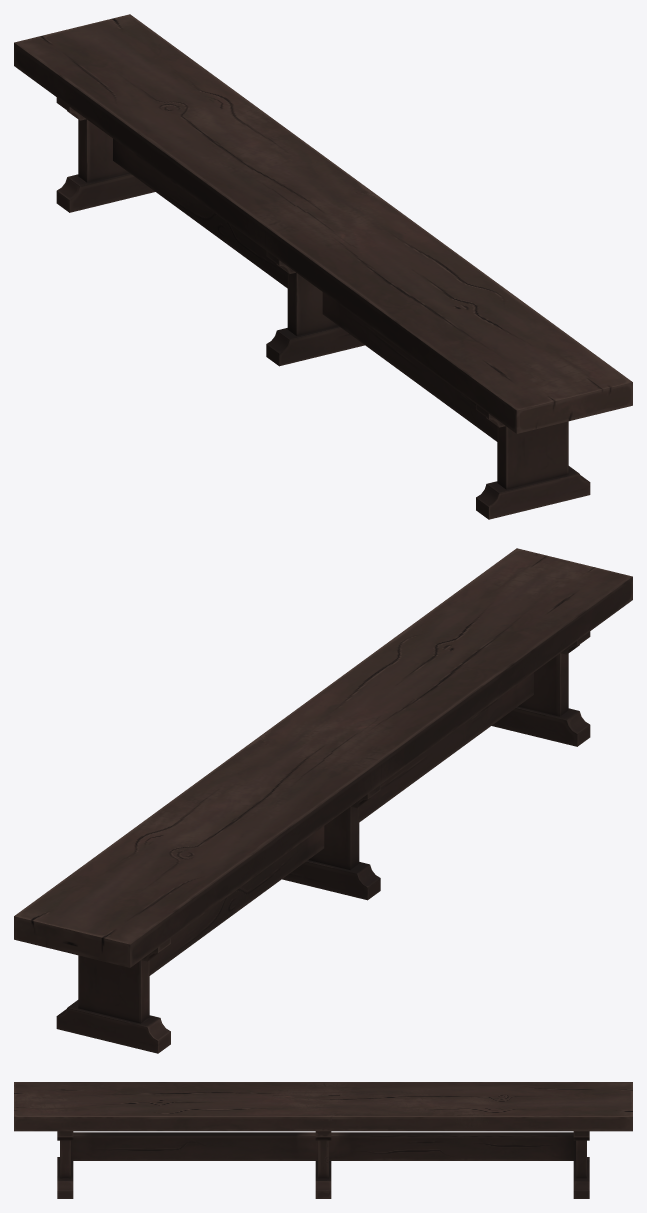
The model's file is Bench.fbx.
3 renders of one model, top to bottom at view 1: azimuth 30°, elevation 25°; view 2: azimuth 150°, elevation 25°; view 3: azimuth 270°, elevation 25°, orthographic. The views are drawn at different scales.
Parts seen in each view (by area): view 1: Bench; view 2: Bench; view 3: Bench.
Part boxes in pixels (box(x1,y1,x2,y2)): Bench: box(14, 14, 632, 519); Bench: box(14, 548, 632, 1053); Bench: box(14, 1082, 632, 1198).
Size of the model in its own units: 0.4002 by 0.4503 by 3.
1 material, 1 textured.
